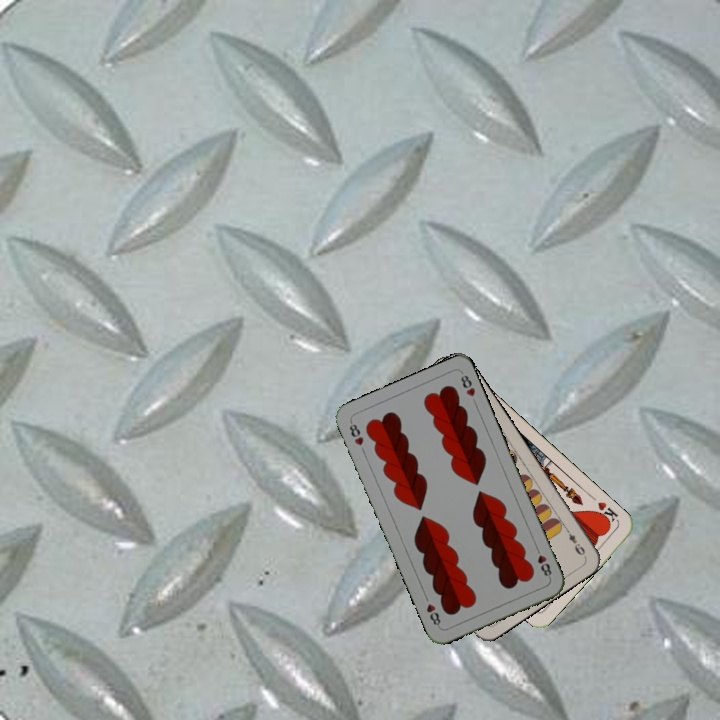E9: (561, 523, 588, 560)
H8: (531, 543, 554, 581), (345, 417, 366, 448)
HK: (591, 498, 621, 527)
